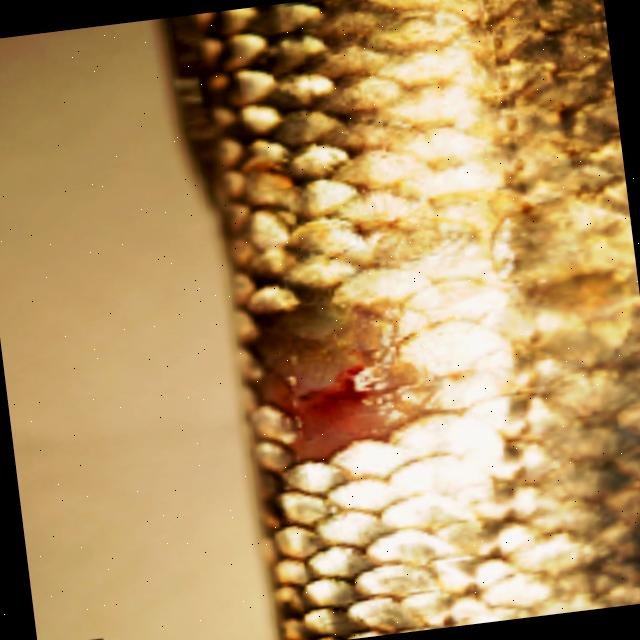Edwardsiella Ictaluri -Bacterial Red Disease-: (159, 0, 640, 640)
